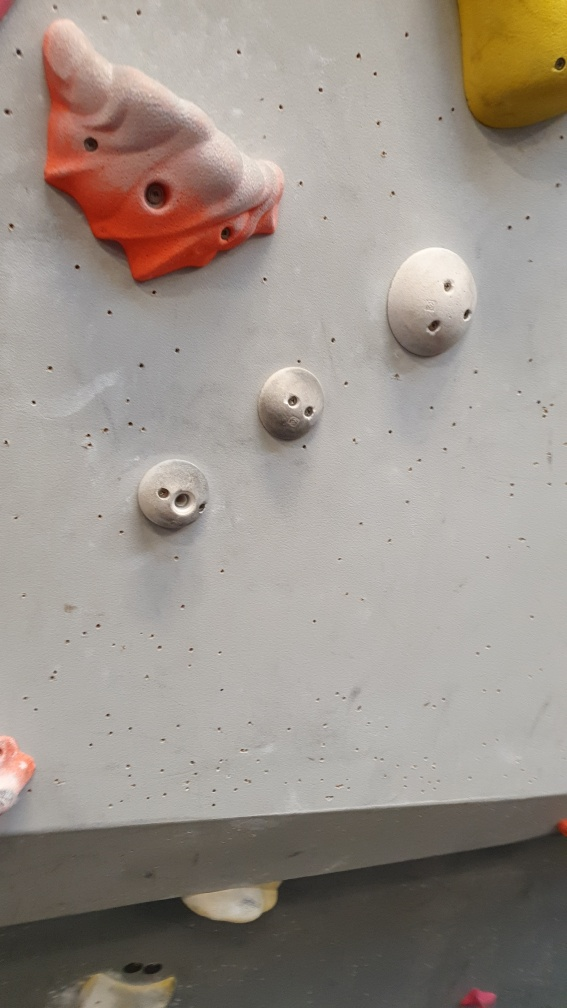Hand Start: (120, 956, 145, 976), (144, 956, 164, 975)
Jug: (35, 14, 286, 284)
Sloper: (379, 244, 481, 363), (134, 455, 212, 535), (259, 364, 328, 444)
